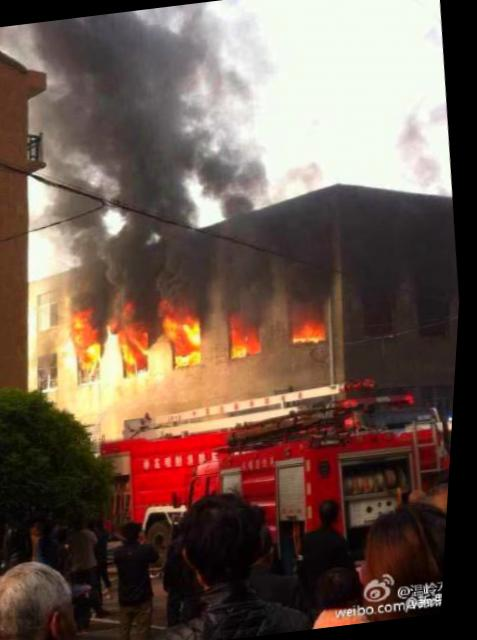fire: (166, 316, 209, 368), (225, 312, 267, 358), (289, 300, 331, 346), (119, 327, 155, 374), (74, 342, 105, 375), (72, 311, 101, 344)
